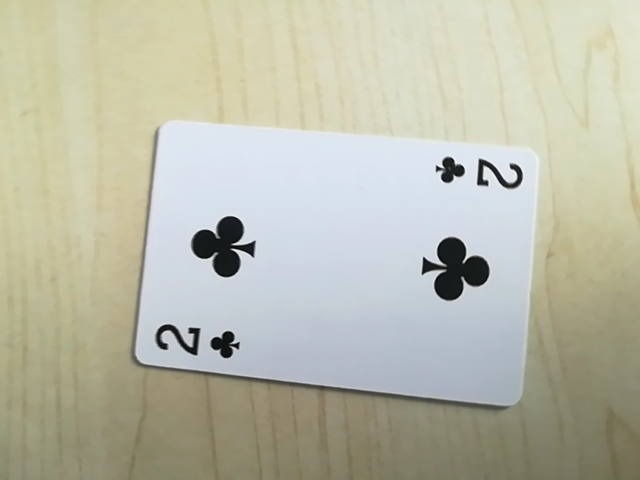mh 2: (148, 318, 247, 364), (432, 151, 525, 198)
